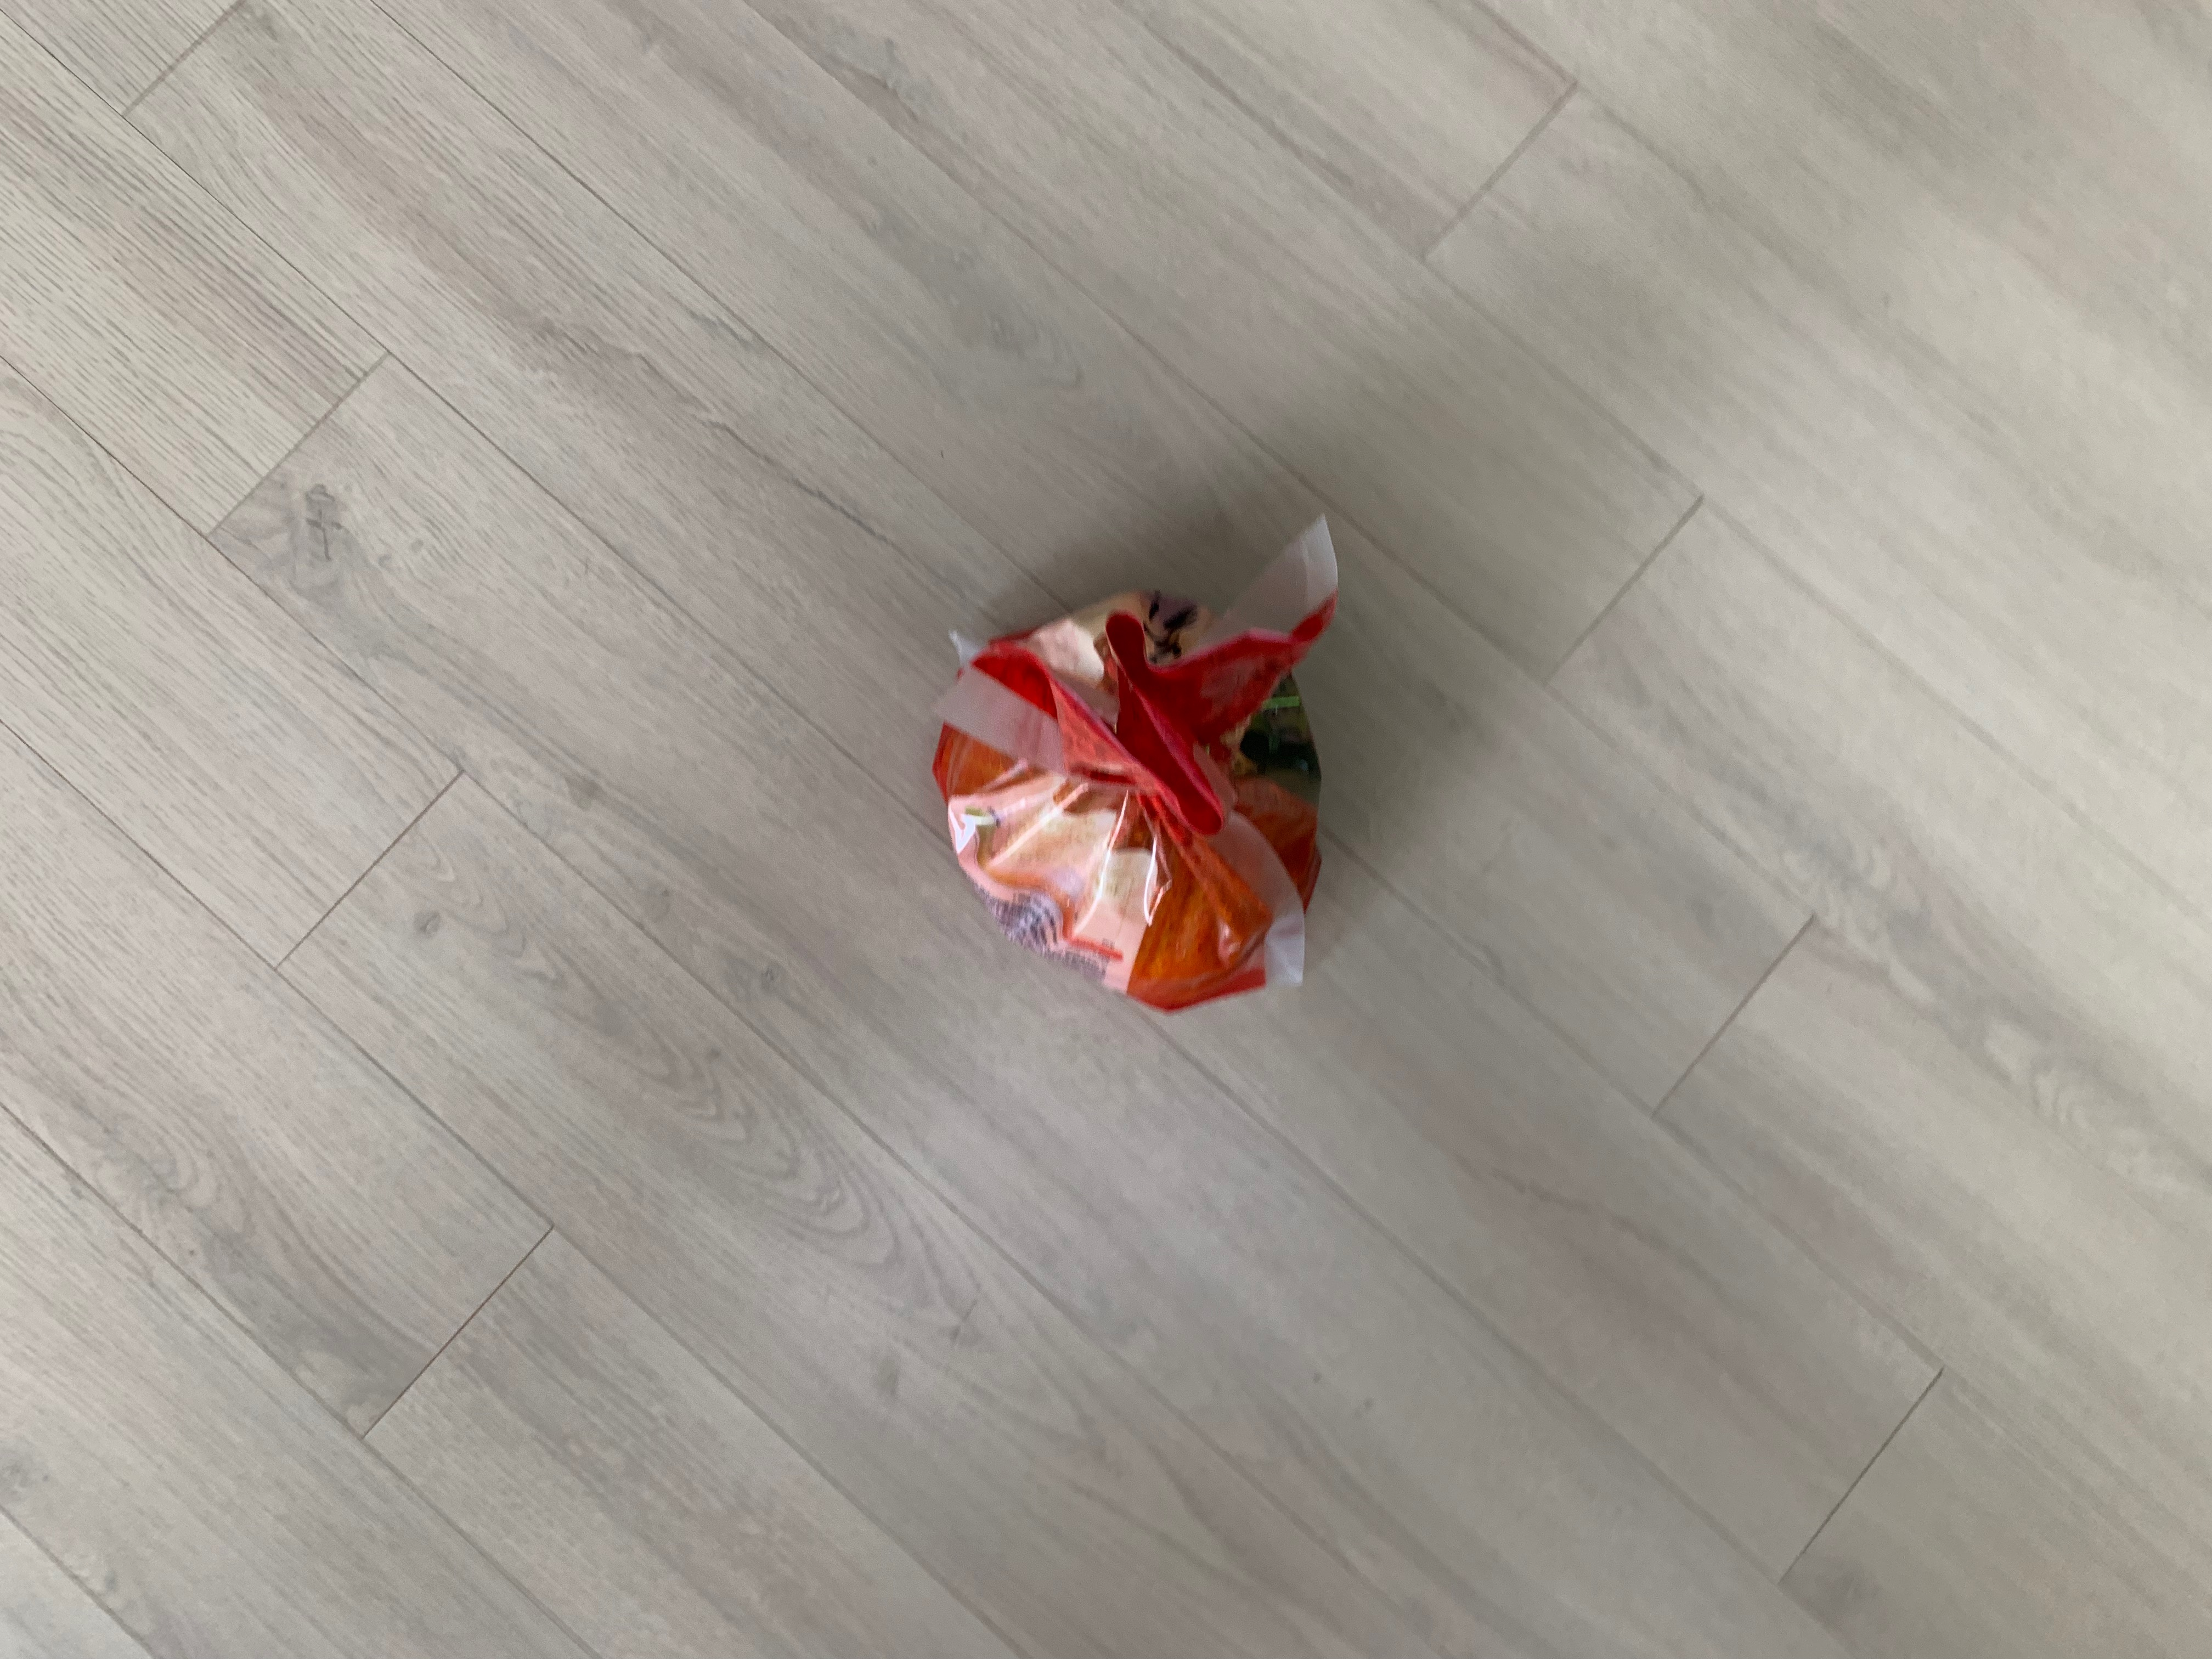kimchi: (935, 587, 1334, 1014)
